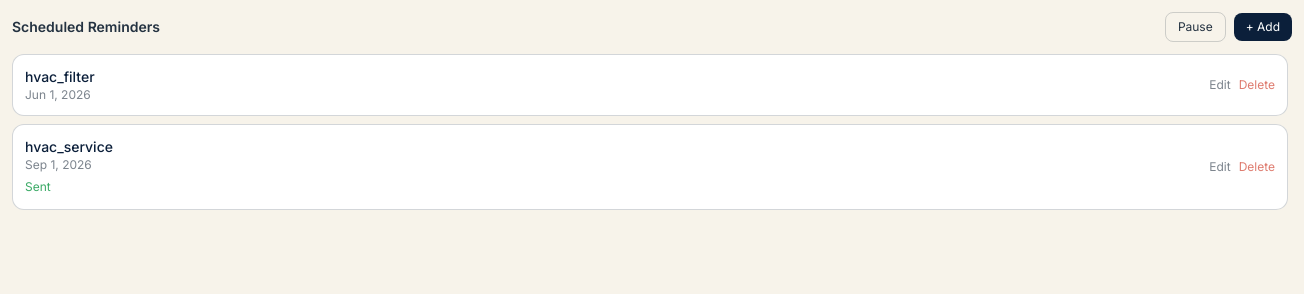
RemindersPanel › clicking Edit shows an editable form pre-filled with current values
Click the button "Edit" in the row of "hvac_filter" at (1220, 85), box [1209, 77, 1231, 93]
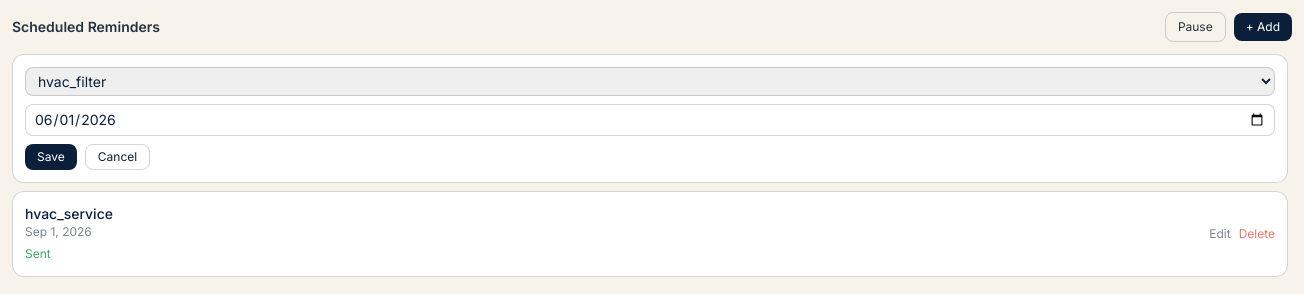
expect the dropdown shows "hvac_filter": met, box [25, 67, 1275, 96]
expect the date field showing "2026-06-01" is shown: met, box [25, 104, 1275, 136]
expect the button "Save" is shown: met, box [25, 144, 77, 170]
